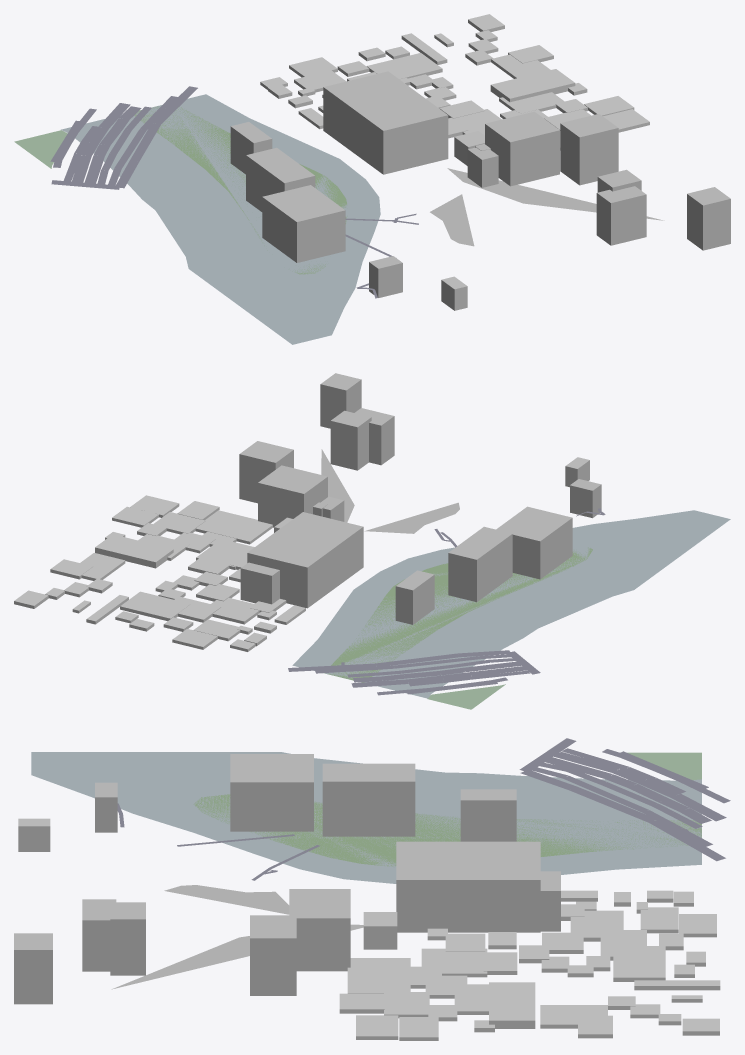
File: 123_78_mid.glb
3 views of the same model, one above another, from view 1: azimuth 30°, elevation 25°; view 2: azimuth 150°, elevation 25°; view 3: azimuth 270°, elevation 25° (orthographic). The views are drawn at different scales.
Bounding box in the file's own units: 532 × 48.93 × 535.
